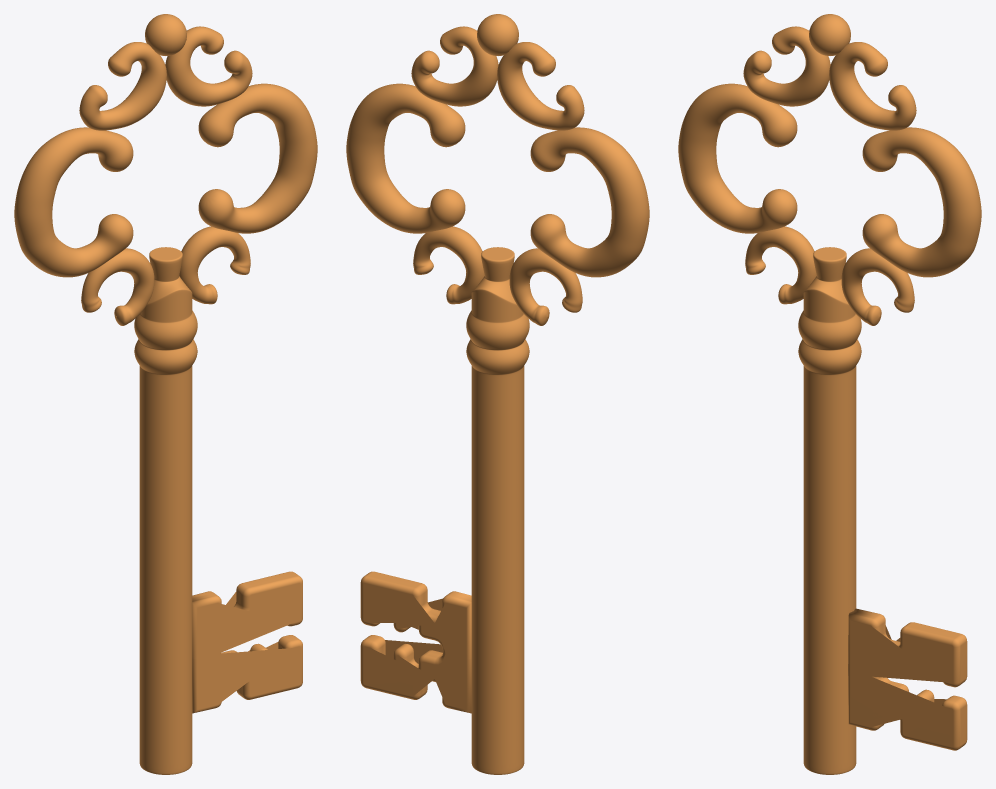
File: key.fbx
3 views of the same model, side by side, from view 1: azimuth 30°, elevation 25°; view 2: azimuth 150°, elevation 25°; view 3: azimuth 330°, elevation 25° (orthographic).
Parts seen in each view (by area): view 1: Cube; view 2: Cube; view 3: Cube.
Boxes of the visible parts, x1,y1,x2,y2 form: Cube: (14,14,317,774); Cube: (346,14,649,774); Cube: (678,14,981,774).
Size of the model in its own units: 3.06 by 7.33 by 0.5648.
